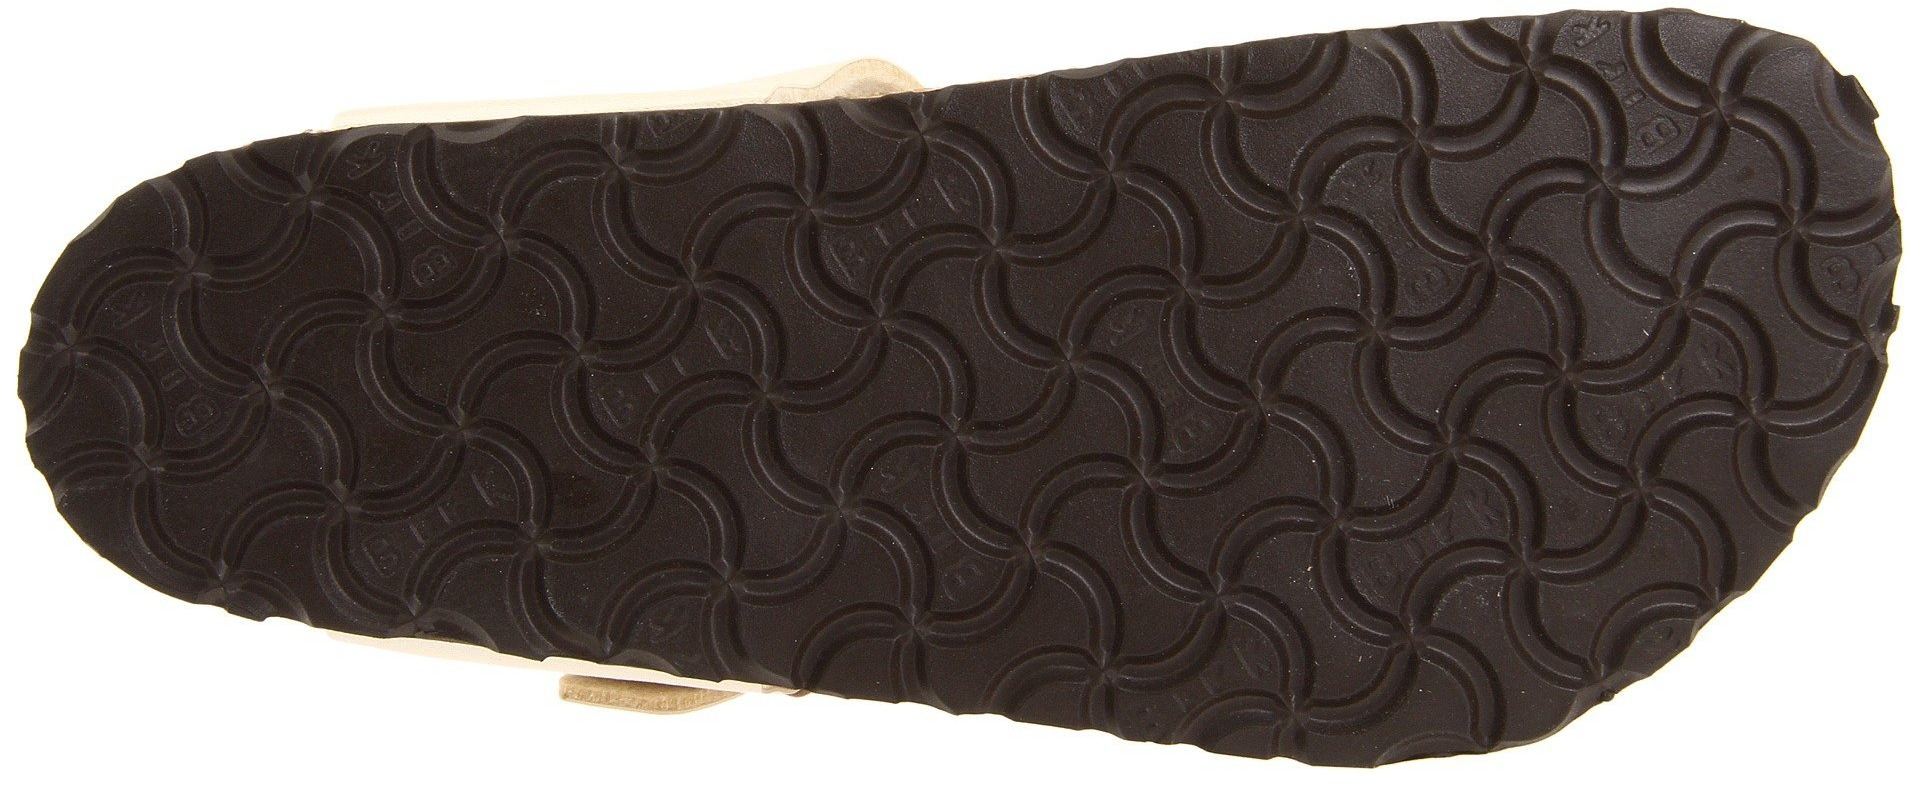bowtie: (1176, 255, 1635, 708), (1360, 55, 1722, 426), (381, 145, 730, 478), (1030, 85, 1351, 405), (1209, 115, 1555, 388), (70, 254, 369, 547), (1082, 423, 1393, 698), (465, 168, 752, 435), (764, 411, 1056, 660), (743, 122, 1014, 385), (1431, 442, 1647, 656)
star: (1209, 115, 1555, 388), (1431, 442, 1647, 656)
text: (1176, 255, 1635, 708), (381, 145, 730, 478), (1209, 115, 1555, 388), (465, 168, 752, 435), (1431, 442, 1647, 656)
